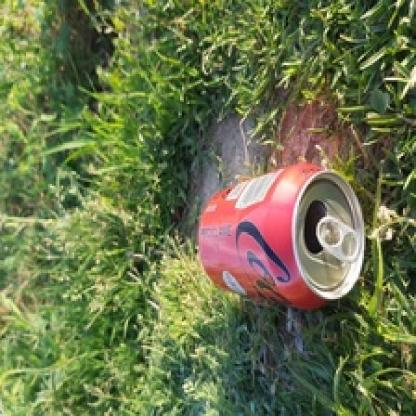Can: (195, 162, 366, 312)
